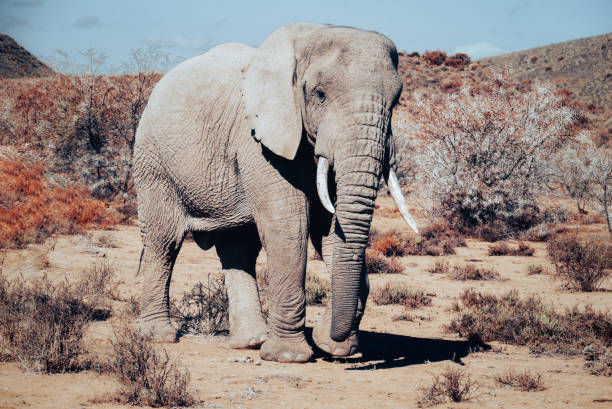africanelephant: (252, 22, 424, 348)
